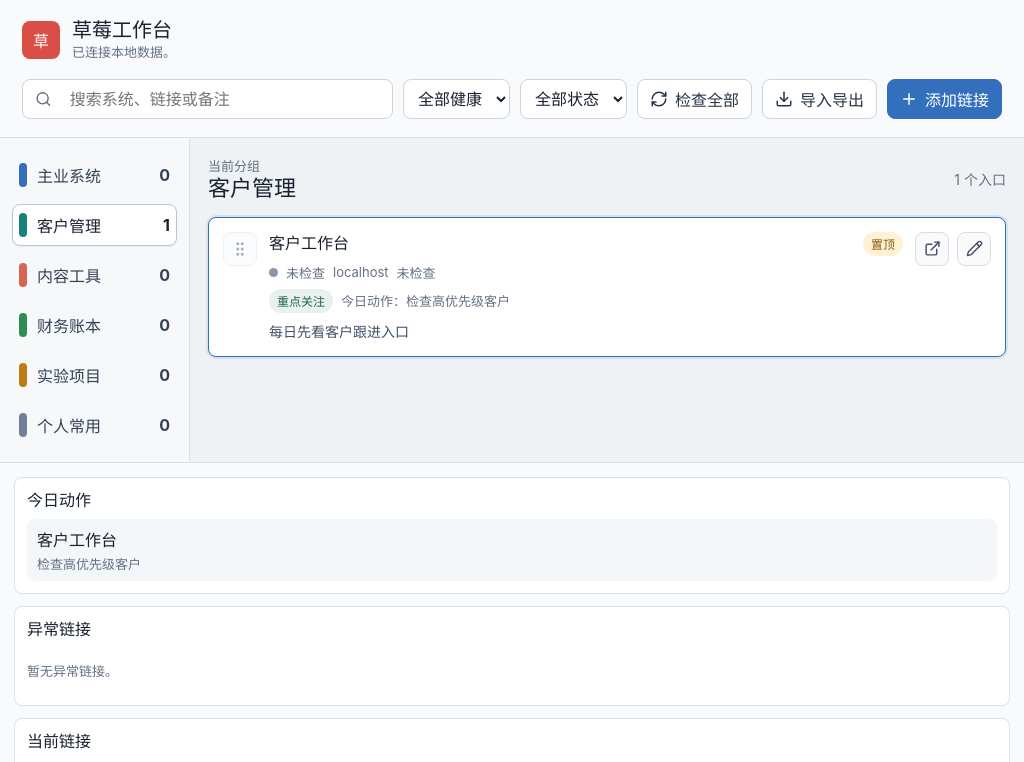
App › opens export dialog with Chinese JSON
Click the button "导入导出": click(820, 99) [762,79,877,119]
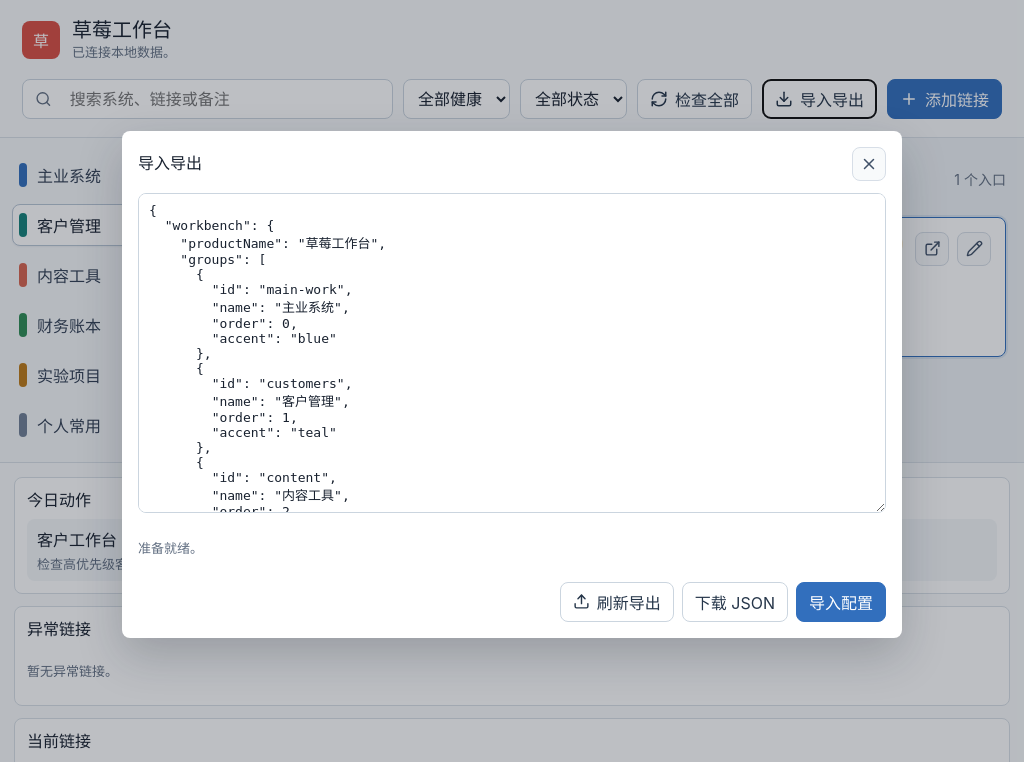
Result: the button "导入配置" is shown at [796,582,886,622]
